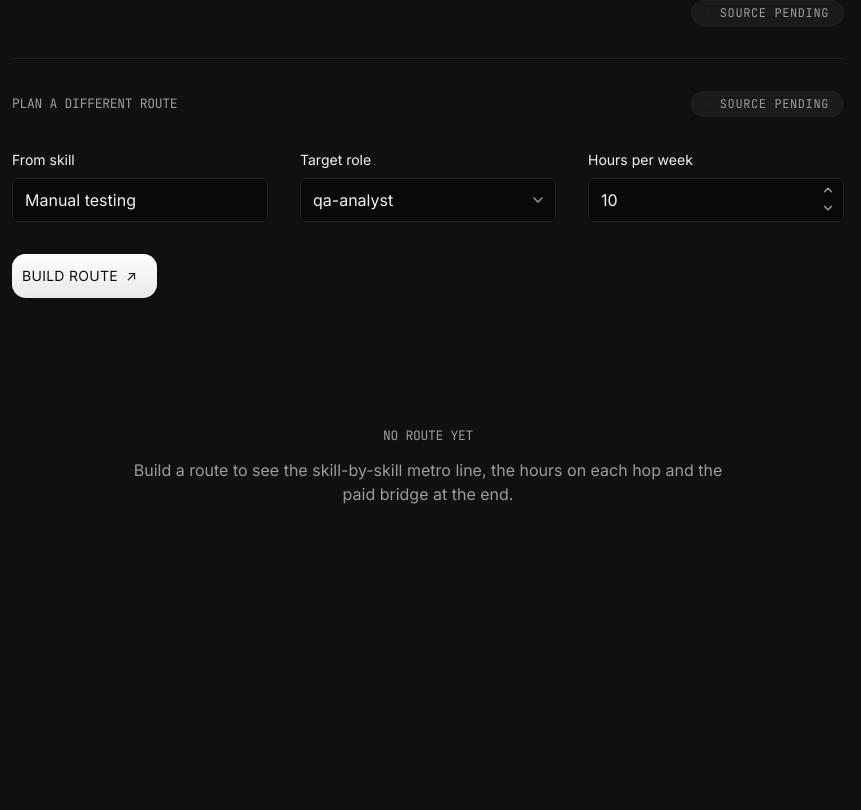
Test: RouteMap › renders every leg in order with its hours and ends at the target role
Click the button "Build route ↗": coordinates (85, 276) [12, 254, 157, 298]
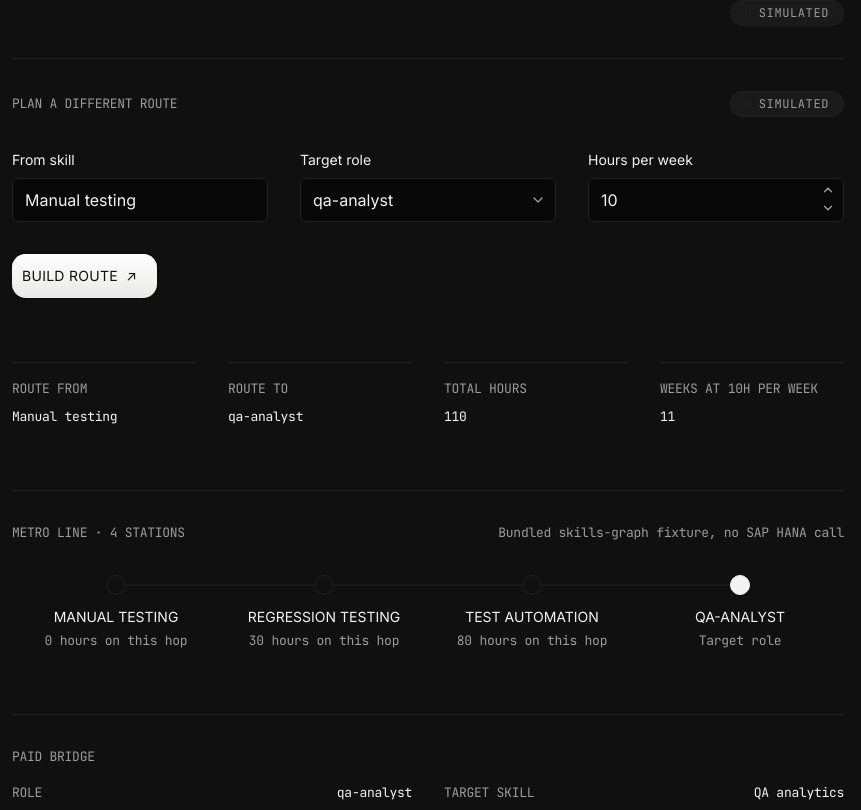
Now the number of list items is 4, box [45, 574, 187, 648]; [248, 574, 400, 648]; [457, 574, 607, 648]; [695, 574, 785, 648]
Now the list items read "Manual testing0 hours on this hop", "Regression testing30 hours on this hop", "Test automation80 hours on this hop", "qa-analystTarget role", in this order, box [45, 574, 187, 648]; [248, 574, 400, 648]; [457, 574, 607, 648]; [695, 574, 785, 648]
